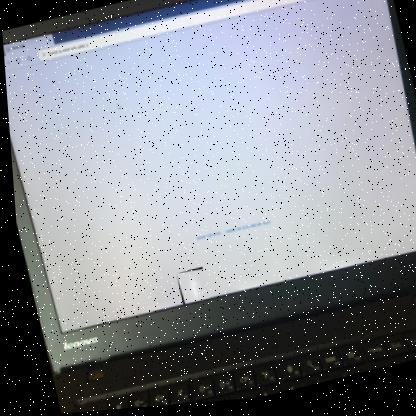spot: (171, 269, 207, 308)
